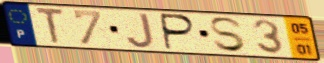3: (252, 18, 286, 56)
7: (72, 9, 105, 47)
J: (125, 12, 157, 50)
P: (160, 12, 198, 52)
S: (208, 17, 249, 54)
T: (33, 6, 67, 46)
